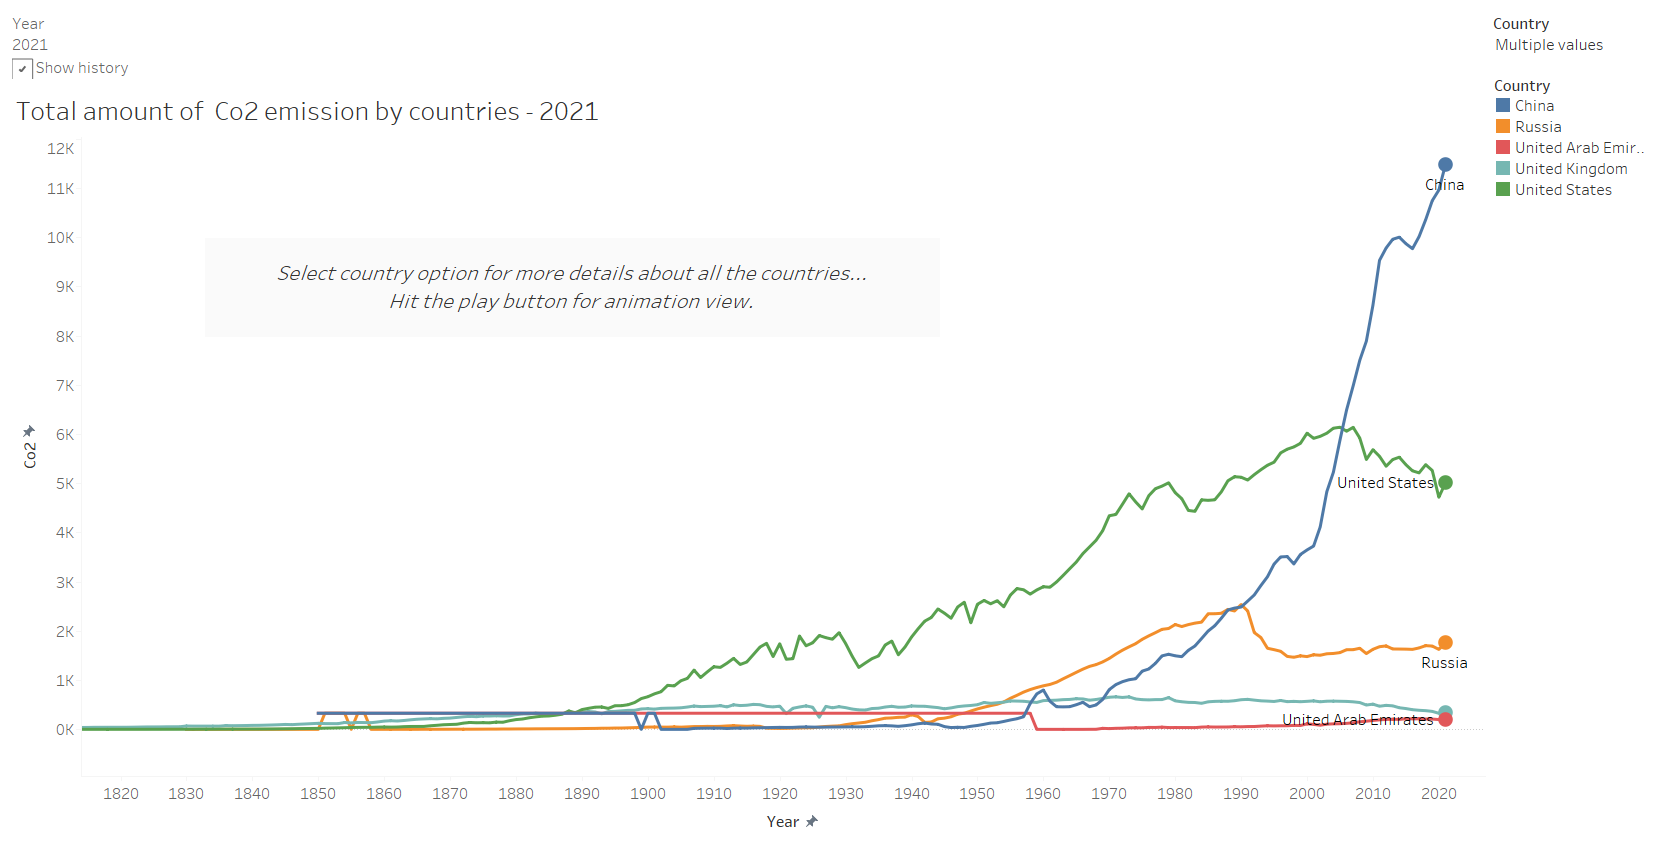

Layout of this report page (visuals, bound fields, positions):
{"tool":"tableau","page":{"name":"Co2 Emission Trend","canvas":[1000,1000],"units":"permille","ordinal":1},"visuals":[{"type":"currpage","title":"Total amount of  Co2 emission by countries","box":[4.8,9.4,893.8,88.1]},{"type":"filter","title":"Total amount of  Co2 emission by countries","param":"[federated.11hnmx00splwlf16n3ti71uejiao].[none:country:nk]","box":[898.6,9.4,96.6,71.7]},{"type":"legend","title":"Total amount of  Co2 emission by countries","param":"[federated.11hnmx00splwlf16n3ti71uejiao].[none:country:nk]","box":[898.6,81.1,96.6,158.6]},{"type":"worksheet","title":"Total amount of  Co2 emission by countries","mark":"Circle","rows":["co2"],"cols":["year"],"box":[4.8,97.5,893.8,893.1]}]}

Visuals, with their boxes on the dashboard's canvas, which has no fixed pixel size, in thousandths of its width and height (x1, y1, x2, y2). These are canvas units, not pixel positions in the 1657x851 screenshot, which may show the page scaled, cropped or inside an application window:
"Total amount of  Co2 emission by countries" currpage: region(5, 9, 899, 98)
"Total amount of  Co2 emission by countries" filter: region(899, 9, 995, 81)
"Total amount of  Co2 emission by countries" legend: region(899, 81, 995, 240)
"Total amount of  Co2 emission by countries" worksheet (Circle marks): region(5, 98, 899, 991)
